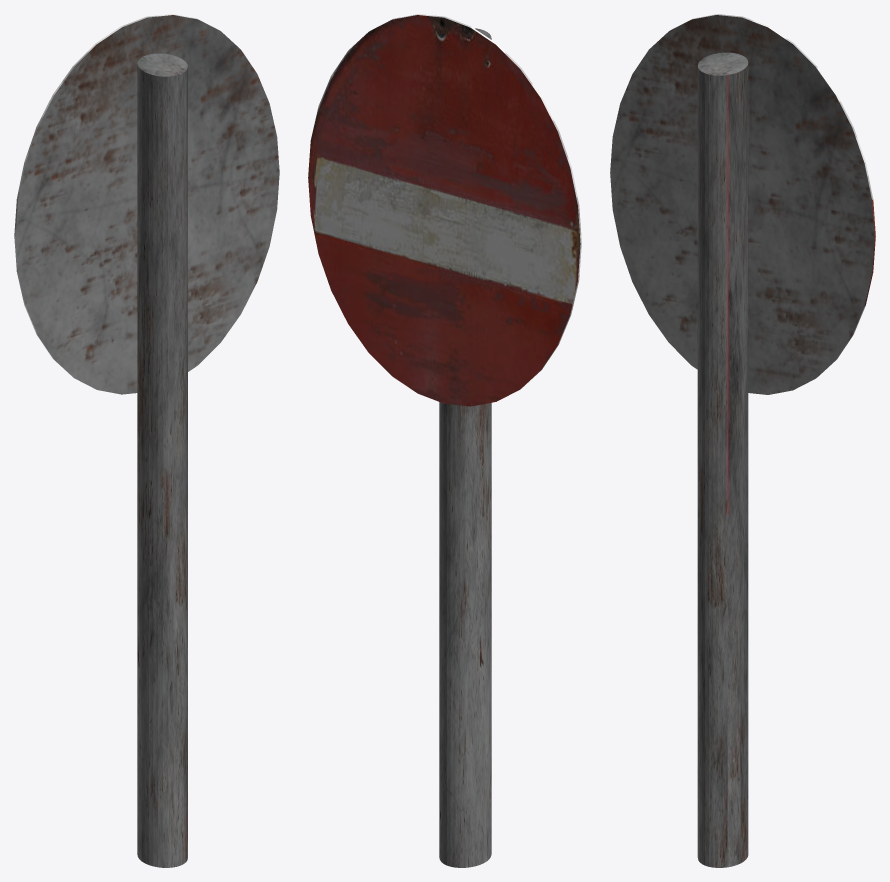
File: NoEntrySign.fbx
3 views of the same model, side by side, from view 1: azimuth 30°, elevation 25°; view 2: azimuth 150°, elevation 25°; view 3: azimuth 330°, elevation 25° (orthographic). The views are drawn at different scales.
Visible parts, largest first — view 1: Stopsign; view 2: Stopsign; view 3: Stopsign.
Part boxes in pixels (x1,y1,x2,y2): Stopsign: (14, 14, 279, 867); Stopsign: (308, 14, 581, 867); Stopsign: (610, 14, 875, 867).
Size of the model in its own units: 64.54 by 193 by 13.82.
3 materials, 3 textured.
